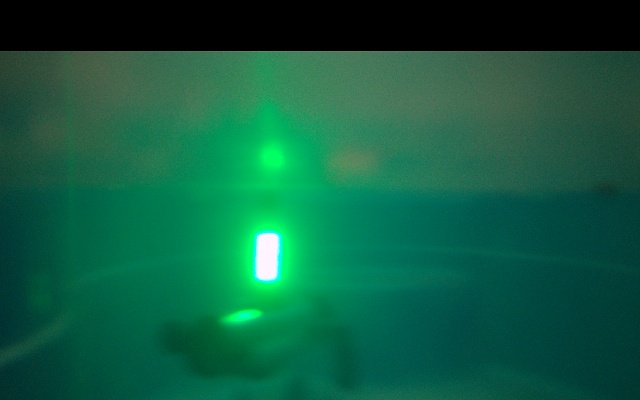green: (256, 226, 278, 291)
